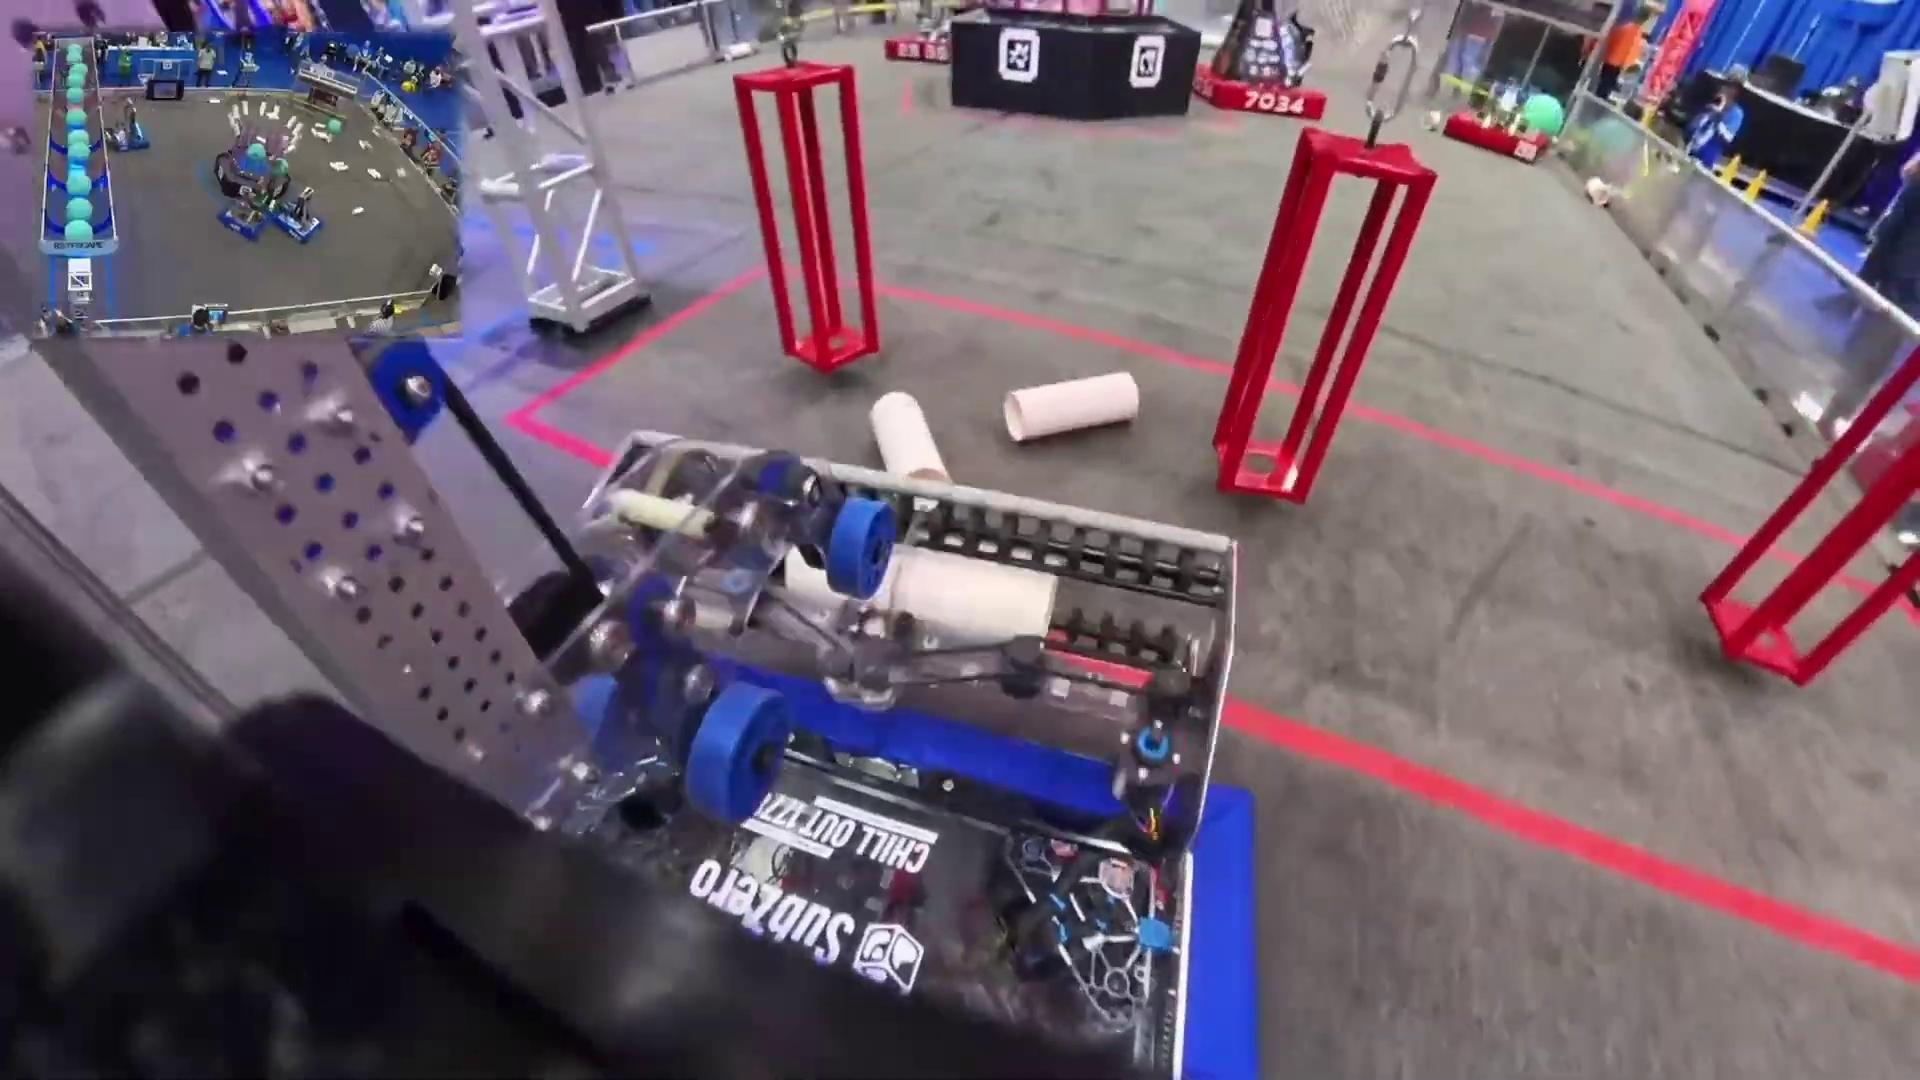robot: (1192, 0, 1324, 116), (1445, 80, 1552, 162), (884, 0, 953, 65), (214, 183, 269, 243), (276, 186, 324, 245), (103, 96, 149, 153)
